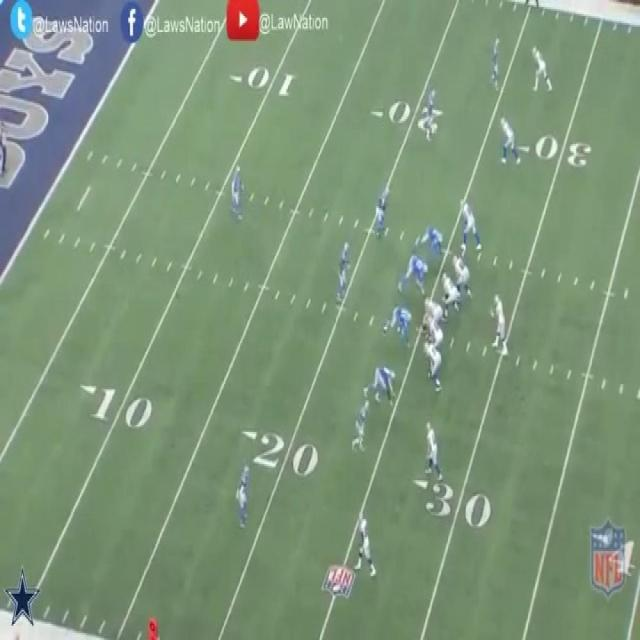center: (419, 295, 443, 333)
db: (236, 466, 250, 522), (354, 400, 368, 448), (231, 165, 242, 219), (491, 36, 502, 86), (426, 90, 435, 140)
lb: (373, 188, 388, 236), (339, 241, 348, 293)
qb: (491, 295, 506, 354)
